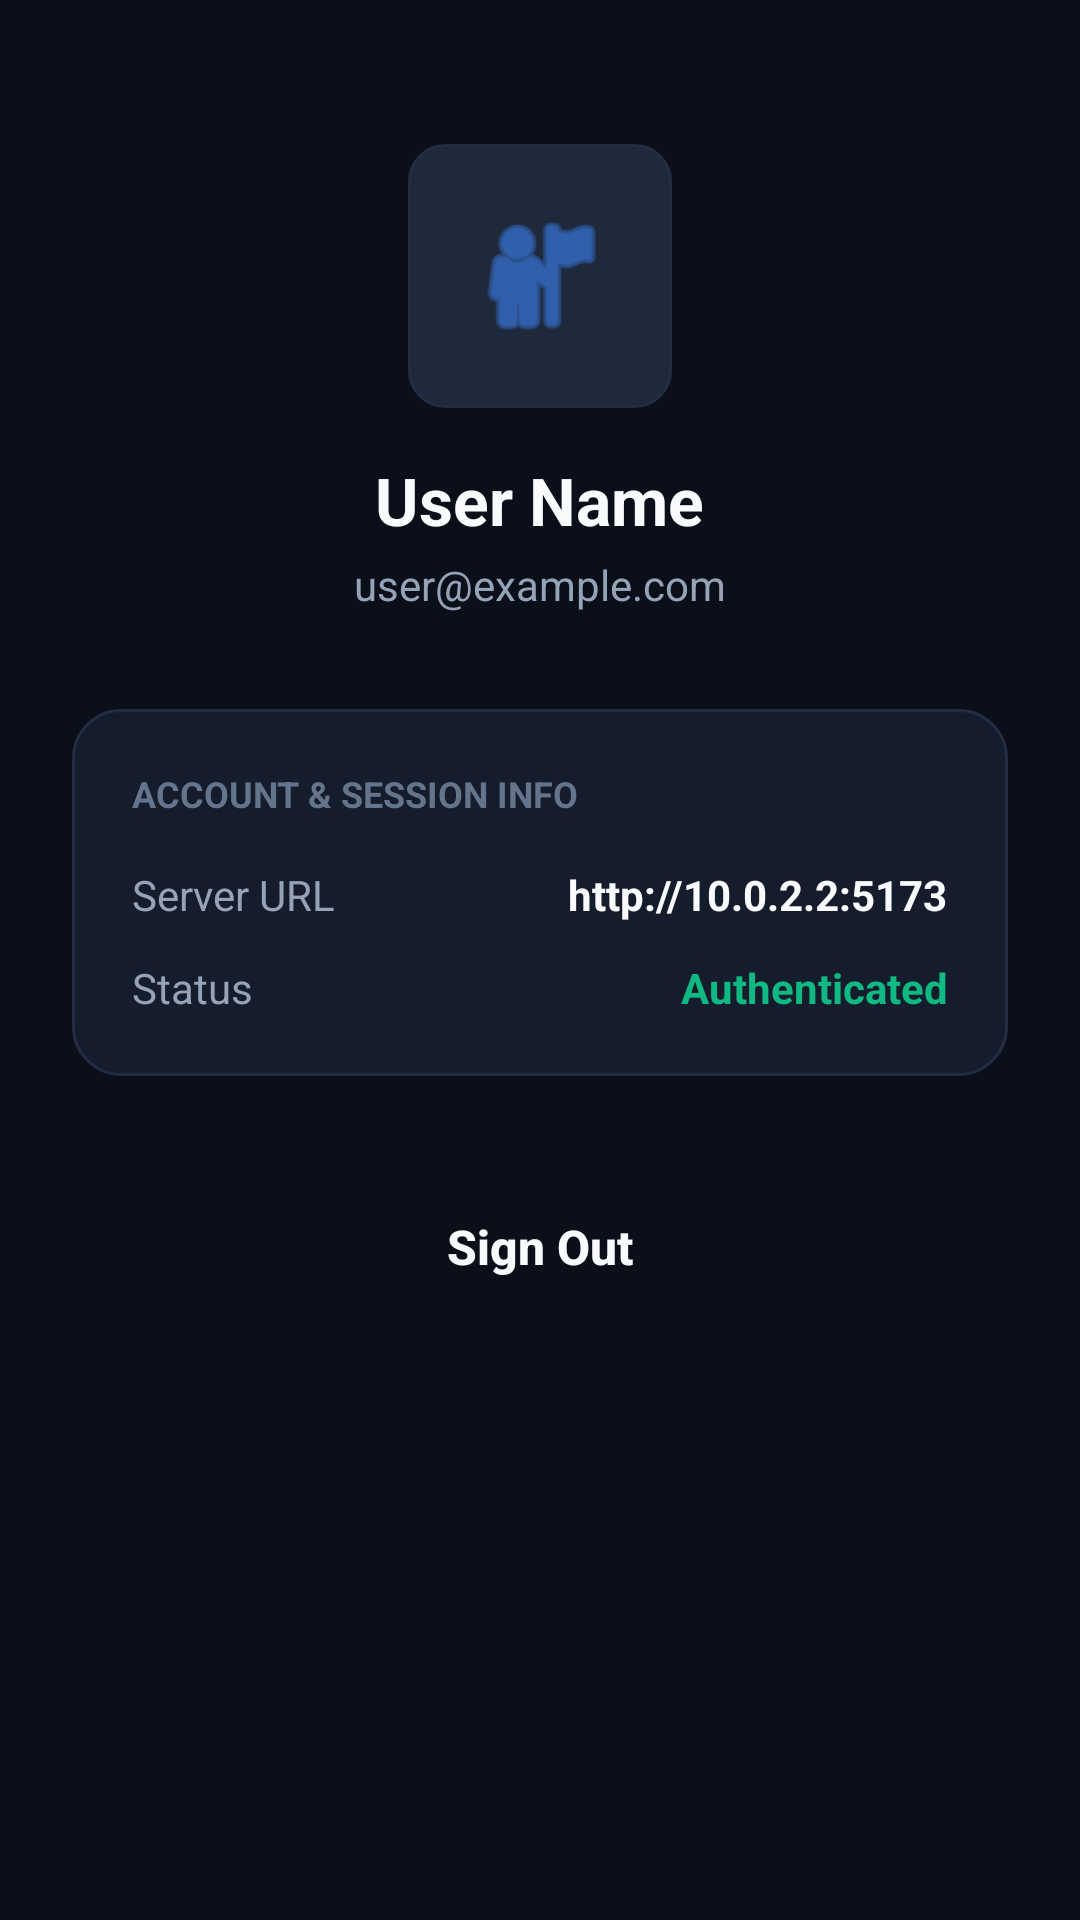

Icons on this 1080*1920 Android screen, each with the point to tap as (x=x, y=y):
User Avatar: (x=540, y=276)
